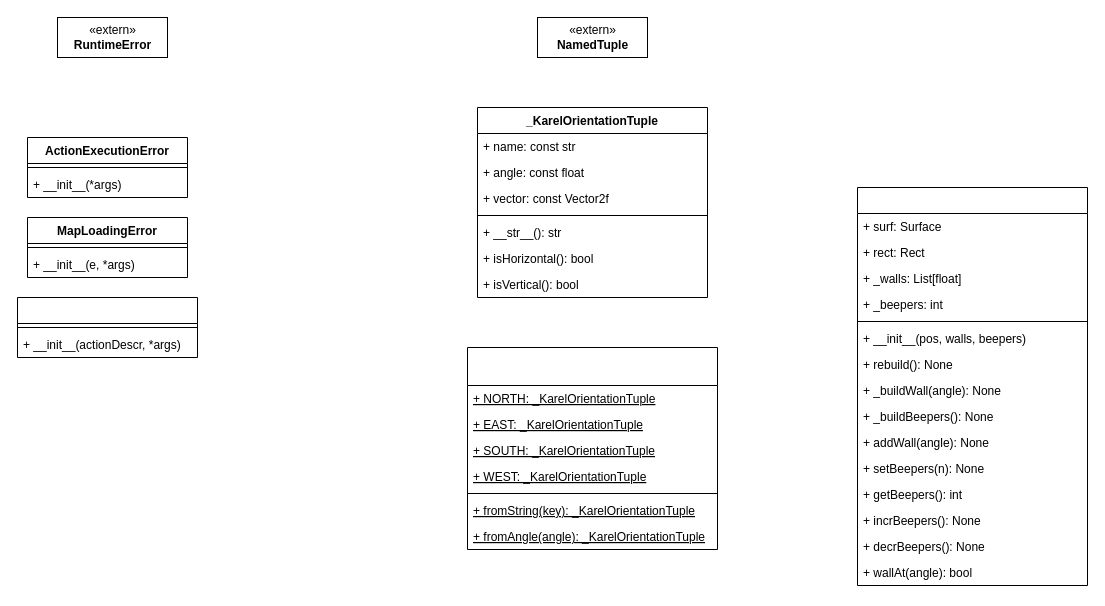
This 1105x606 diagram has some shape labels left out. The box of each missing label's shape, as (x1, y1, x2, y2) in pixels:
Tile: (856, 186, 1088, 586)
UnallowedActionError: (16, 296, 198, 358)
«EnumLike» KarelOrientation: (466, 346, 718, 550)
